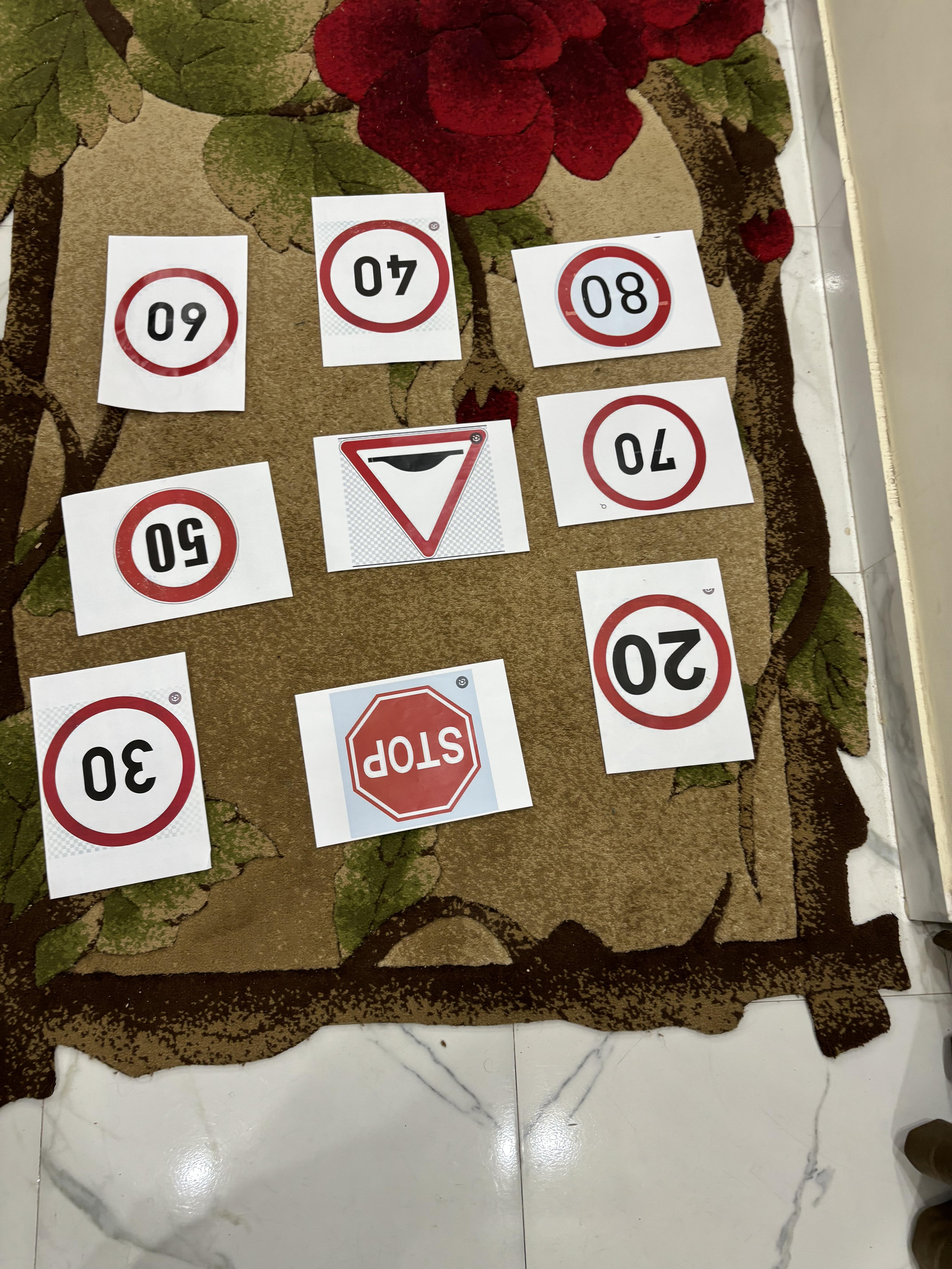20-Speed: (591, 591, 732, 730)
30-speed: (36, 694, 200, 849)
40-Speed: (321, 220, 452, 335)
50-Speed: (113, 487, 240, 605)
60-Speed: (111, 269, 243, 381)
70-Speed: (578, 391, 714, 515)
80-Speed: (555, 234, 678, 353)
Hump: (338, 418, 500, 561)
Stop: (344, 687, 485, 824)
